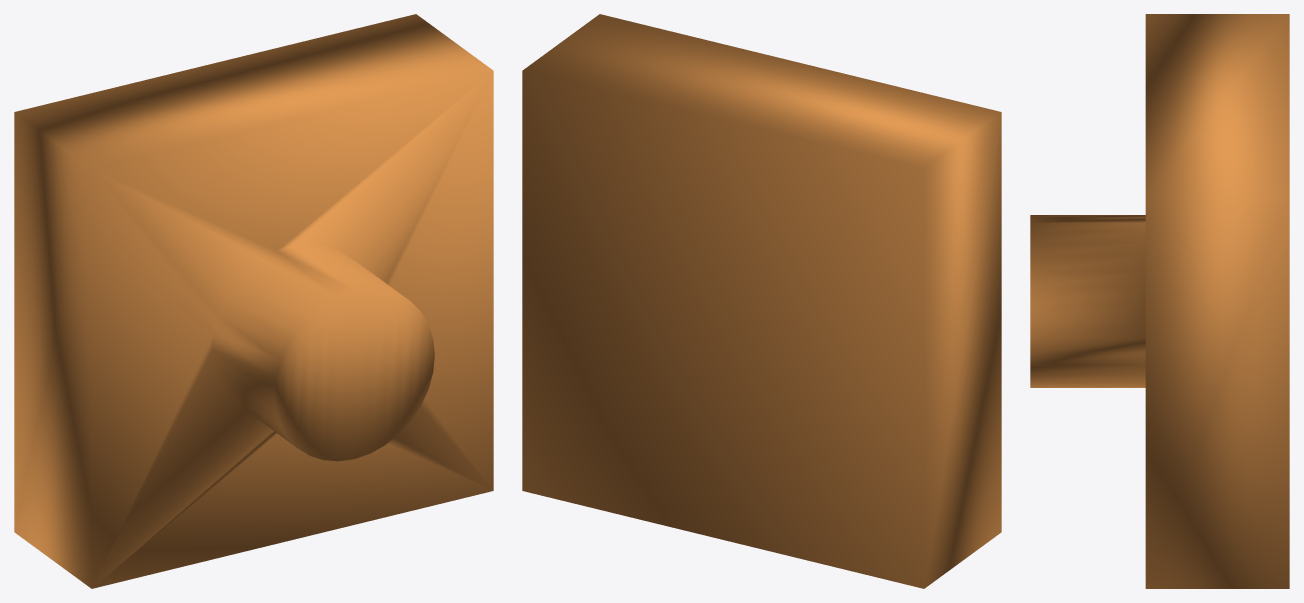
File: expected.gltf
The picture shows the model from 3 angles, left to right: view 1: azimuth 30°, elevation 25°; view 2: azimuth 150°, elevation 25°; view 3: azimuth 270°, elevation 25°; orthographic projection. The views are drawn at different scales.
Size of the model in its own units: 30 by 30 by 18.
